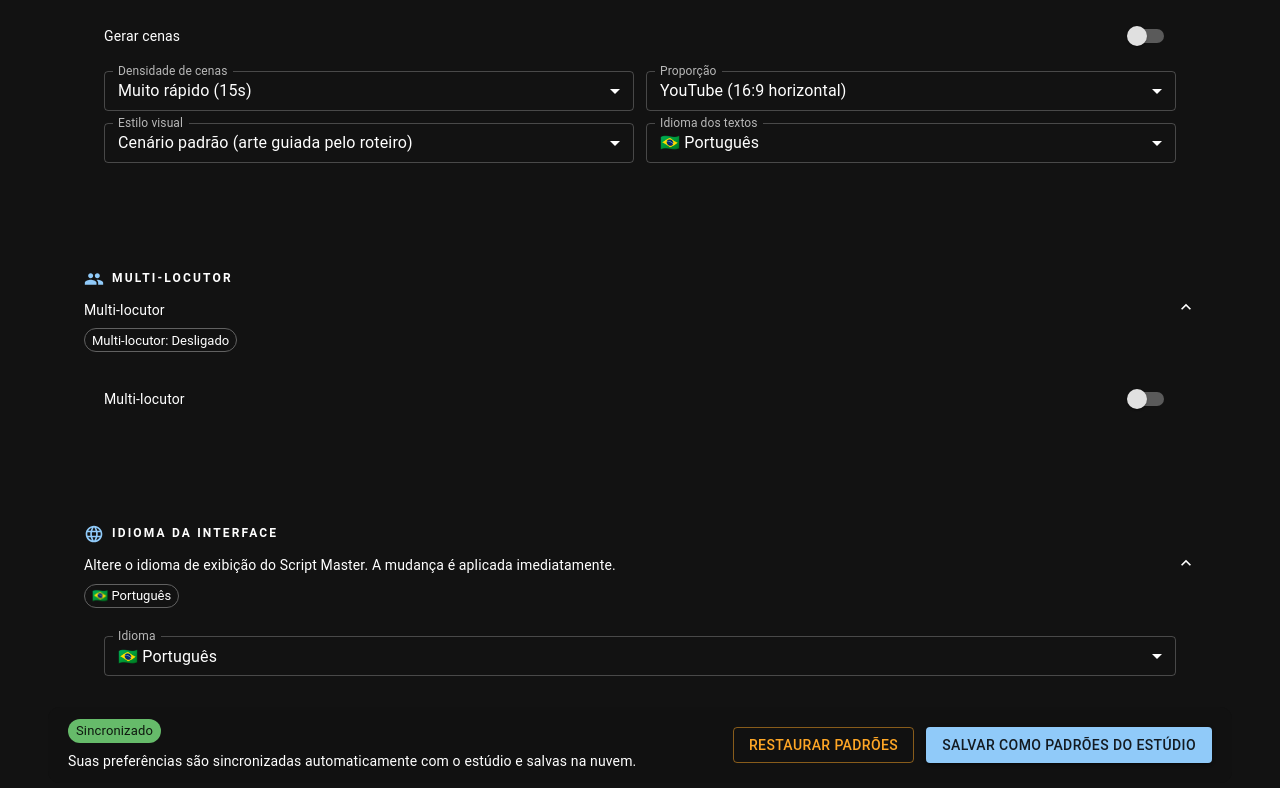
Test case: ConfiguracoesPage › switch de multi-locutor › exibe campos do locutor B ao ativar o switch de multi-locutor
(page scrolled)
Click the switch named "Multi-locutor".
click(1137, 399)  # box 1127,389 -> 1147,409
(page scrolled)
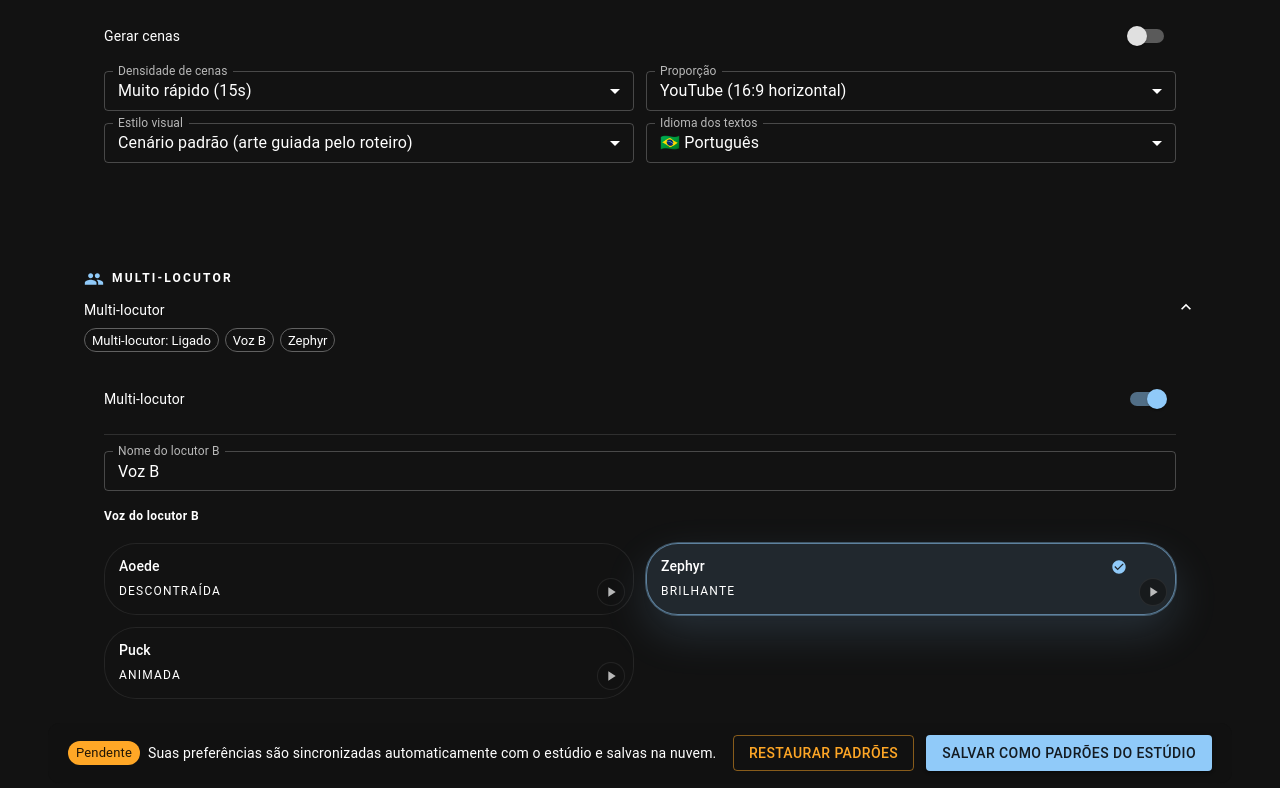
Result: the field labelled "Nome do locutor B" is shown at 104,451 -> 1176,491
